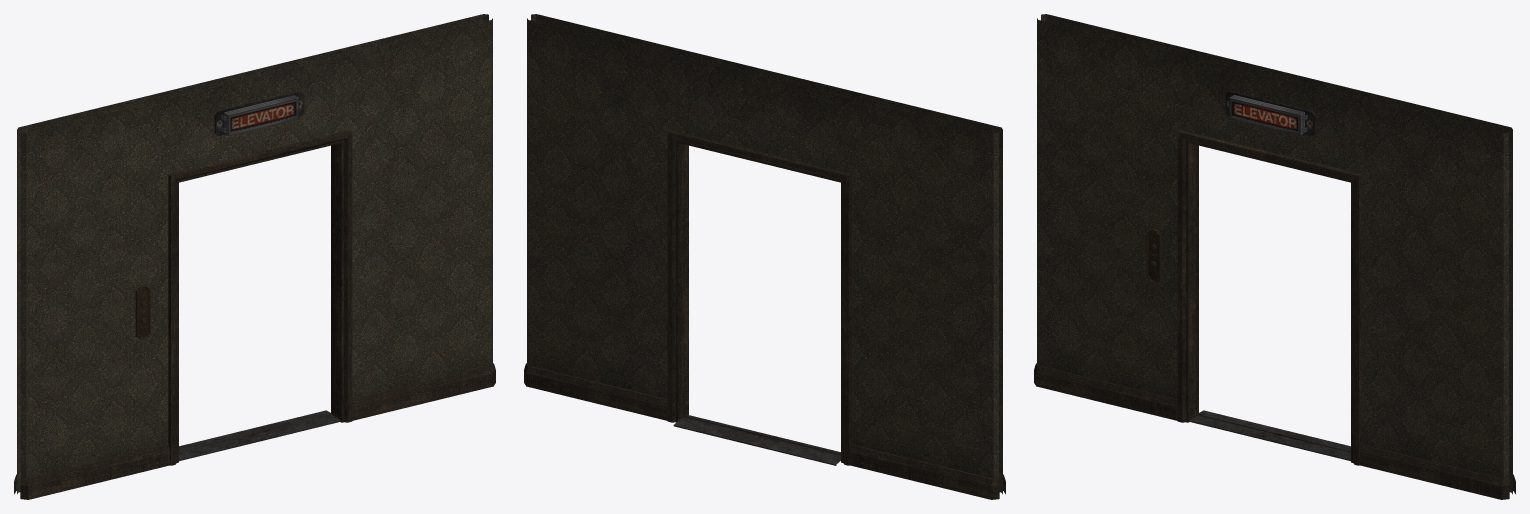
File: elevator_doorway_2.glb
3 views of the same model, side by side, from view 1: azimuth 30°, elevation 25°; view 2: azimuth 150°, elevation 25°; view 3: azimuth 330°, elevation 25° (orthographic).
Visible parts, largest first — view 1: elevator_doorway_2; view 2: elevator_doorway_2; view 3: elevator_doorway_2.
Part boxes in pixels (<box>): elevator_doorway_2: <box>14,14,495,499</box>; elevator_doorway_2: <box>524,14,1005,499</box>; elevator_doorway_2: <box>1034,14,1515,499</box>.
Size of the model in its own units: 4.09 by 3 by 0.29.
Materials: 5 (5 with a texture image).
